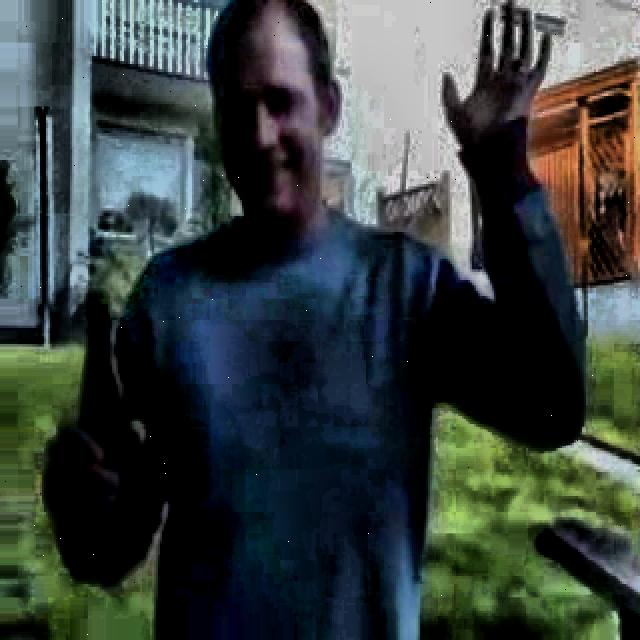L: (46, 3, 587, 635)
